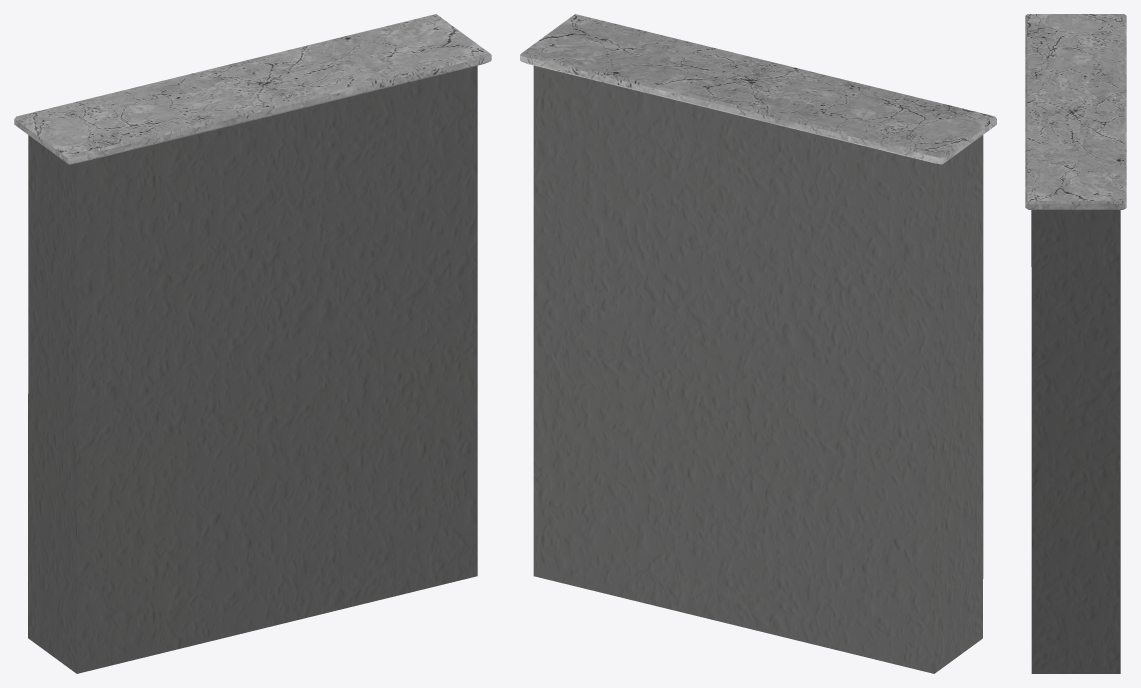
3 renders of one model, left to right at view 1: azimuth 30°, elevation 25°; view 2: azimuth 150°, elevation 25°; view 3: azimuth 270°, elevation 25°, orthographic. The views are drawn at different scales.
Parts seen in each view (by area): view 1: FP414:Cube.1890_e09b13b4; view 2: FP414:Cube.1890_e09b13b4; view 3: FP414:Cube.1890_e09b13b4.
Part boxes in pixels (bbox=[...]): FP414:Cube.1890_e09b13b4: bbox=[14, 14, 491, 673]; FP414:Cube.1890_e09b13b4: bbox=[520, 14, 996, 673]; FP414:Cube.1890_e09b13b4: bbox=[1025, 14, 1126, 673].
Bounding box in the file's own units: 1.02 × 1.2 × 0.2307.
